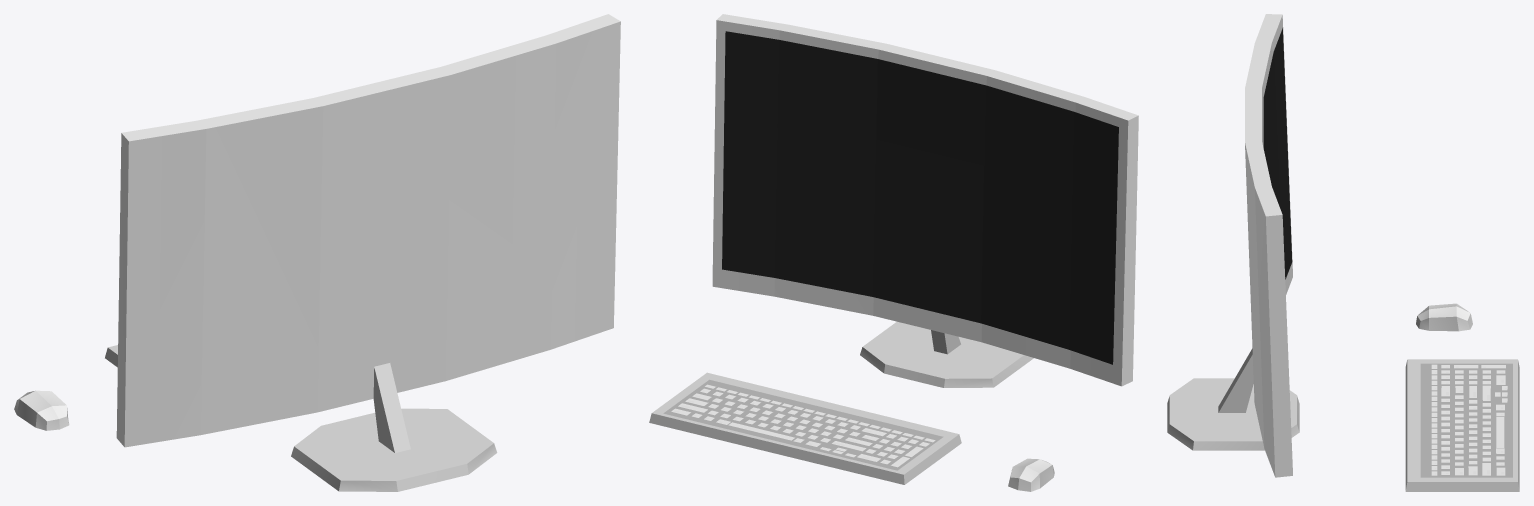
The model's file is computer.glb.
The picture shows the model from 3 angles, left to right: view 1: azimuth 30°, elevation 25°; view 2: azimuth 150°, elevation 25°; view 3: azimuth 270°, elevation 25°; orthographic projection. The views are drawn at different scales.
Parts seen in each view (by area): view 1: office_table_028; view 2: office_table_028; view 3: office_table_028.
Part boxes in pixels (box(x1,y1,x2,y2)): office_table_028: box(14, 14, 620, 491); office_table_028: box(649, 14, 1138, 491); office_table_028: box(1167, 14, 1519, 491).
Size of the model in its own units: 0.0878 by 0.0614 by 0.0646.
1 material, 1 textured.
